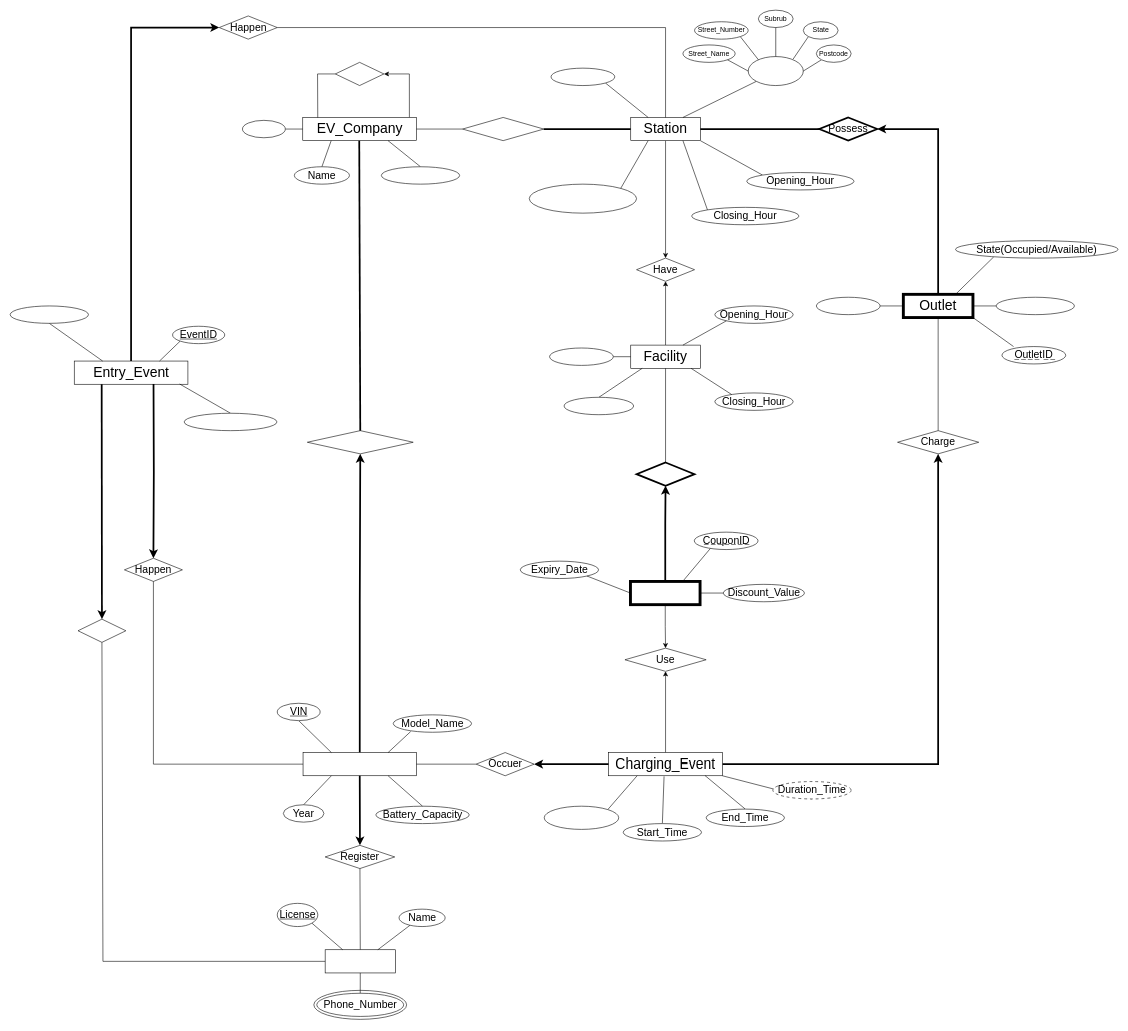
Image size: 1128x1031. Some labels were removed from this diagram. Each missing label, with the centre of its shape:
"ABN" goes at (x=263, y=129).
"Address" goes at (x=775, y=71).
"Ariival_Time" goes at (x=49, y=314).
"Associate" goes at (x=503, y=129).
"CEO_Name" goes at (x=420, y=175).
"ChargingID" goes at (x=581, y=817).
"Coupon" goes at (x=665, y=593).
"Electric_Vichle" goes at (x=359, y=764).
"Establishment_Date" goes at (x=583, y=198).
"Facility_Type" goes at (x=598, y=406).
"FacilityID" goes at (x=581, y=356).
"Manufacture" goes at (x=360, y=442).
"Off_Peak_Price" goes at (x=1035, y=306).
"Own" goes at (x=359, y=74).
"Peak_Price" goes at (x=848, y=306).
"Person" goes at (x=360, y=961).
"Provide" goes at (x=665, y=473).
"Queue_Position" goes at (x=230, y=422).
"StationID" goes at (x=582, y=77).
"With" goes at (x=101, y=630).
